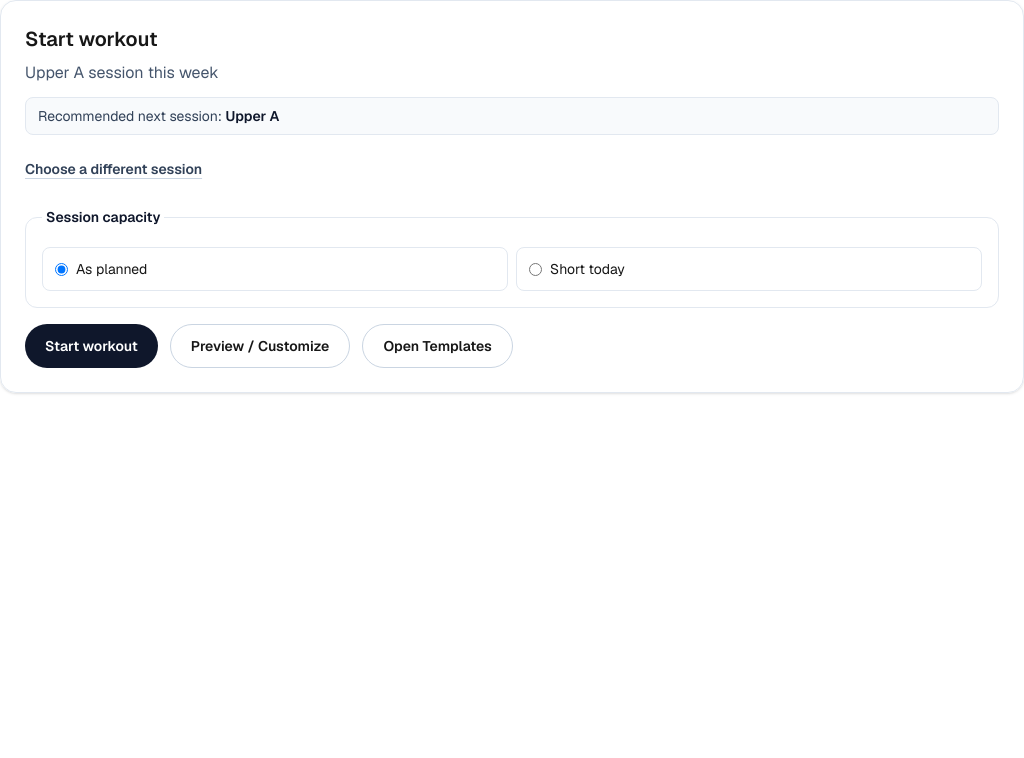
Test: IntentWorkoutCard › keeps preview/customize available as the secondary path
This screenshot has width=1024, height=758.
Click the button "Preview / Customize". click: (260, 346)
box: left=170, top=324, right=350, bottom=368
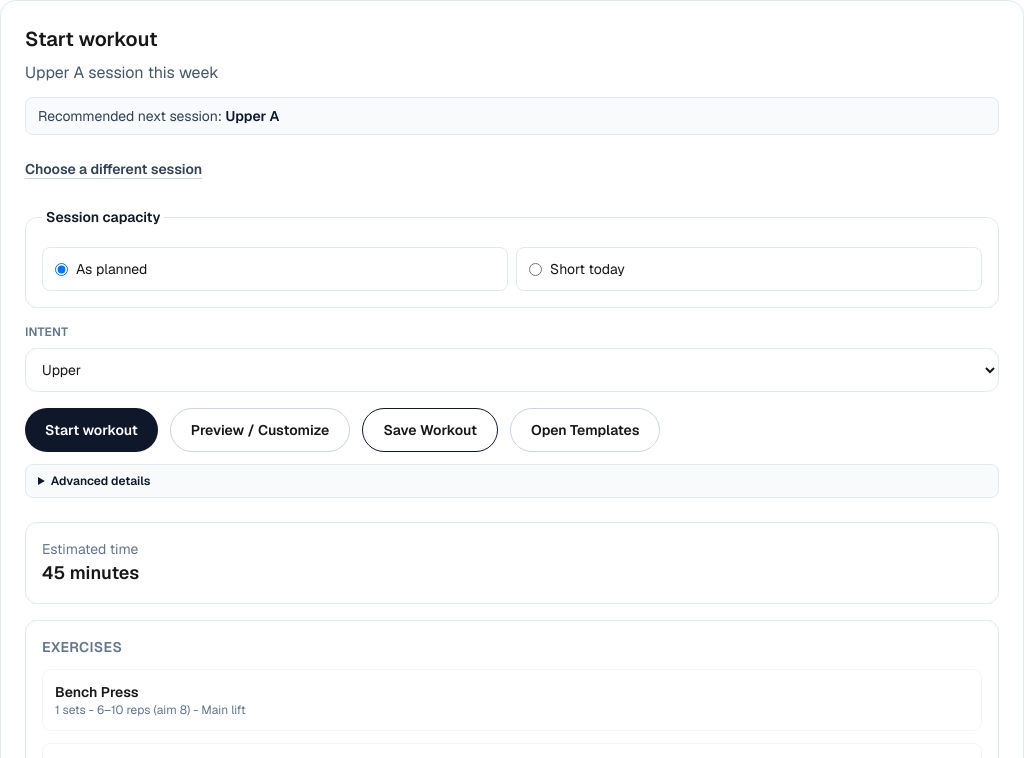
Check: the button "Save Workout" is shown, box left=362, top=408, right=498, bottom=452
Check: the dropdown labelled "Intent" shows "Upper", box left=25, top=348, right=999, bottom=392
Check: the heading "Exercises" is shown, box left=42, top=638, right=122, bottom=656
